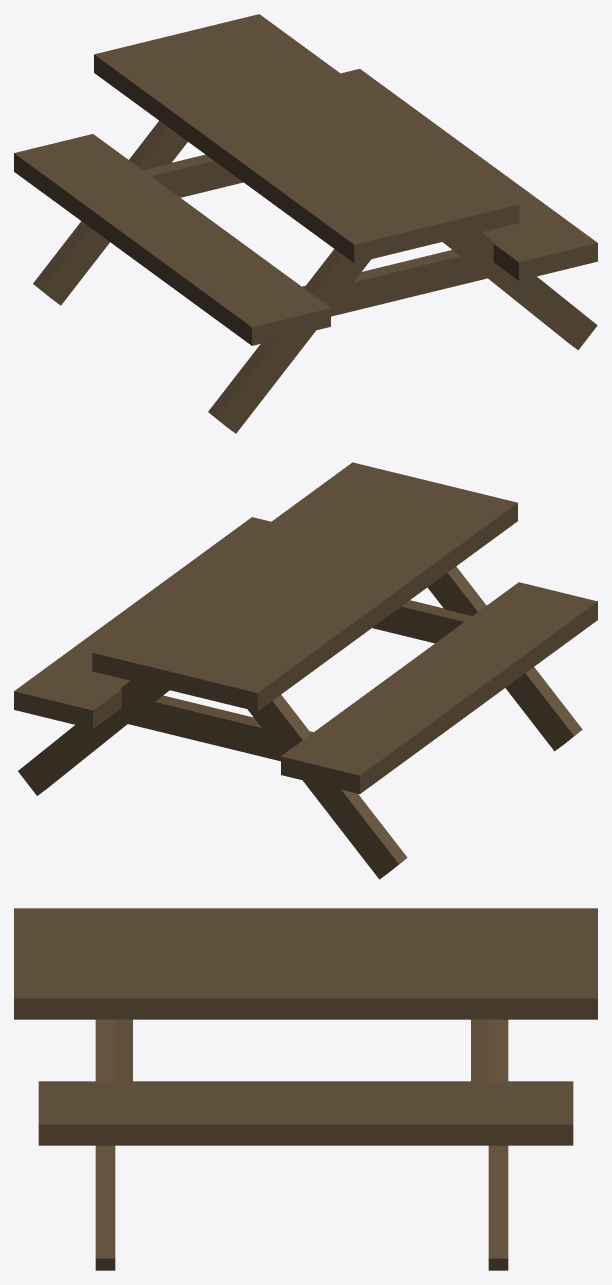
The model's file is PicnicTable.fbx.
3 renders of one model, top to bottom at view 1: azimuth 30°, elevation 25°; view 2: azimuth 150°, elevation 25°; view 3: azimuth 270°, elevation 25°, orthographic. The views are drawn at different scales.
Parts seen in each view (by area): view 1: PicnictableMerged; view 2: PicnictableMerged; view 3: PicnictableMerged.
Boxes of the visible parts, x1,y1,x2,y2 form: PicnictableMerged: (14, 14, 597, 433); PicnictableMerged: (14, 462, 597, 879); PicnictableMerged: (14, 908, 597, 1270).
Bounding box in the file's own units: 3.68 × 1.81 × 4.35.
